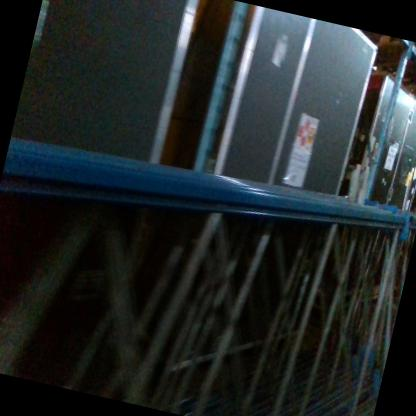pallet: (379, 37, 416, 85), (373, 34, 416, 65)
